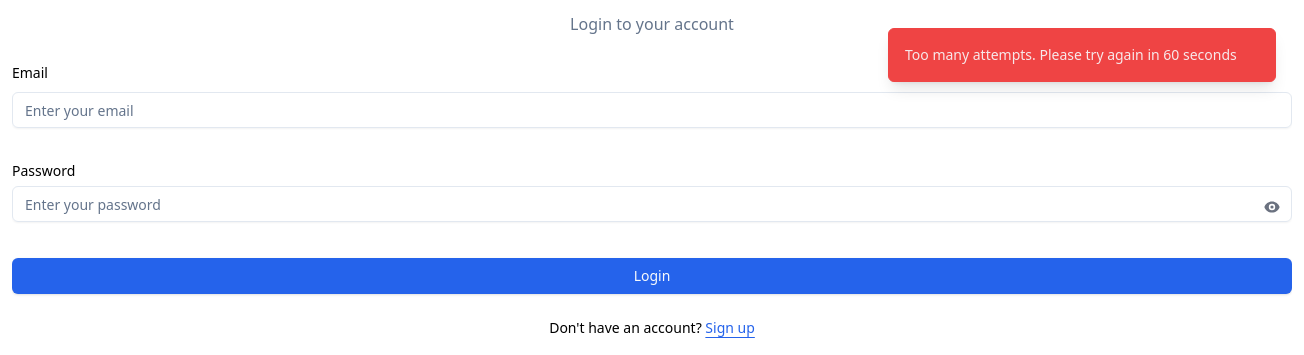
Test: Presentation > Features > Auth > LoginForm › should handle account not approved error
Type "test@example.com" into the field labelled "Email". click: (652, 110)
box: [12, 92, 1292, 128]
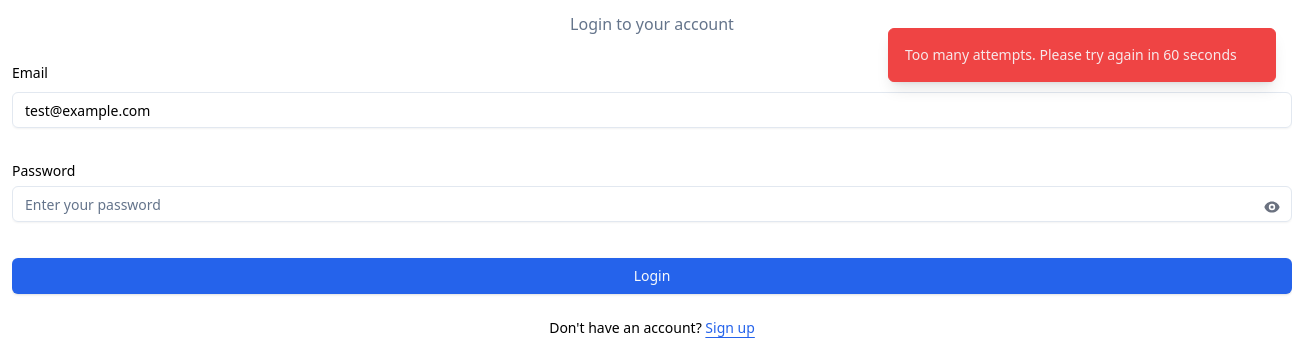
Type "password123" into the password field with test id "password-input". click: (652, 204)
box: [12, 186, 1292, 222]
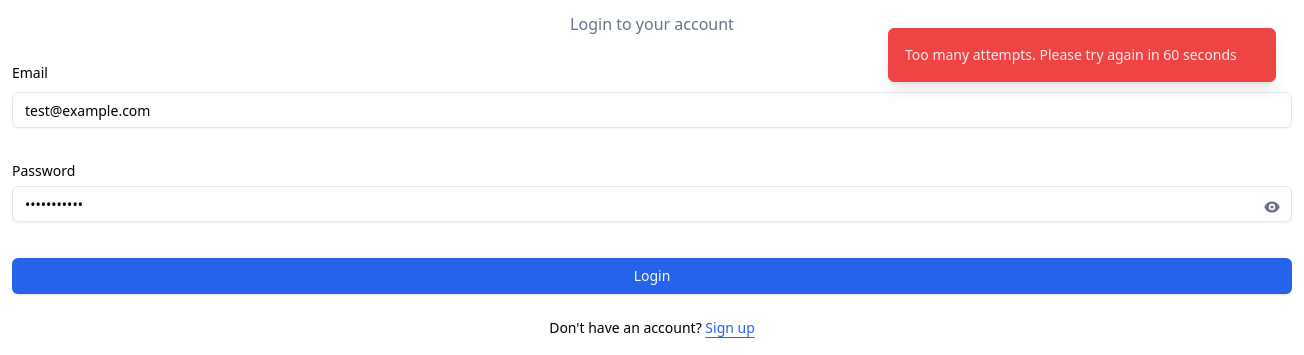
Click the button "Login". click: click(652, 276)
box: [12, 258, 1292, 294]
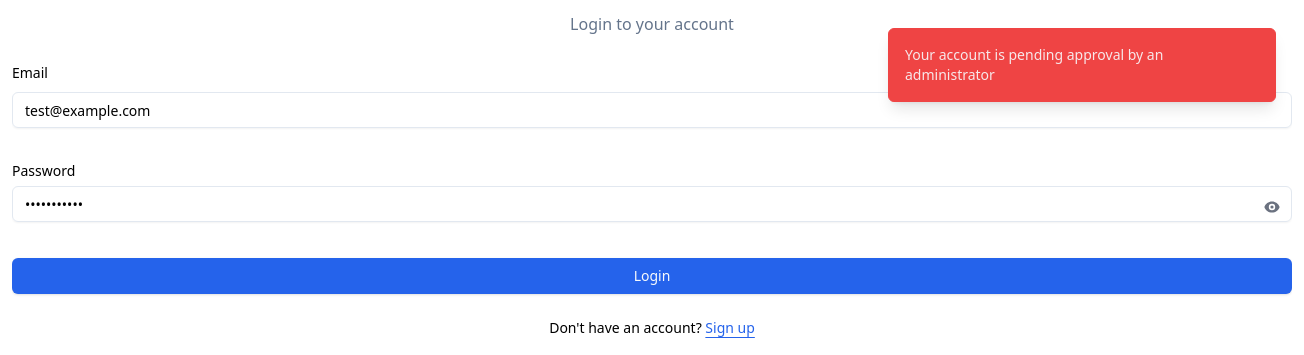
Now the text "Your account is pending approval by an administrator" is shown, box [905, 45, 1163, 84]
